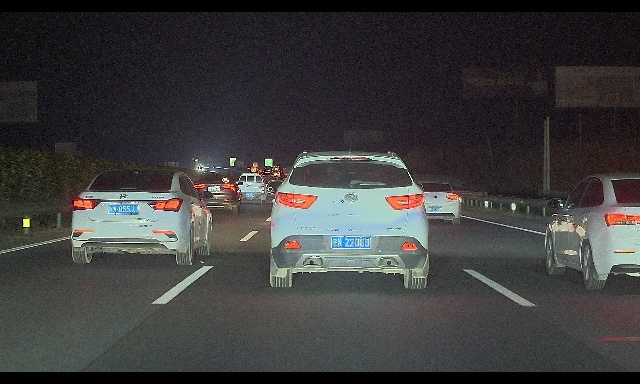car: (266, 150, 428, 289), (72, 168, 213, 266), (544, 173, 640, 291), (408, 180, 463, 226), (192, 174, 243, 216), (260, 176, 279, 195), (265, 183, 289, 196)
truck: (236, 173, 266, 205), (270, 166, 280, 178)
